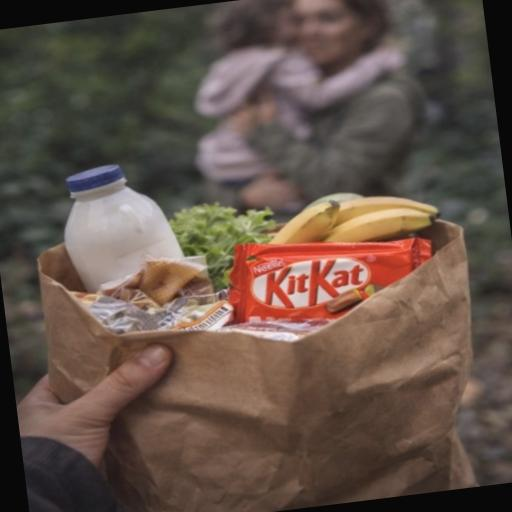kitkat: (202, 184, 496, 399)
